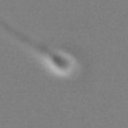normal: (1, 8, 47, 58)
